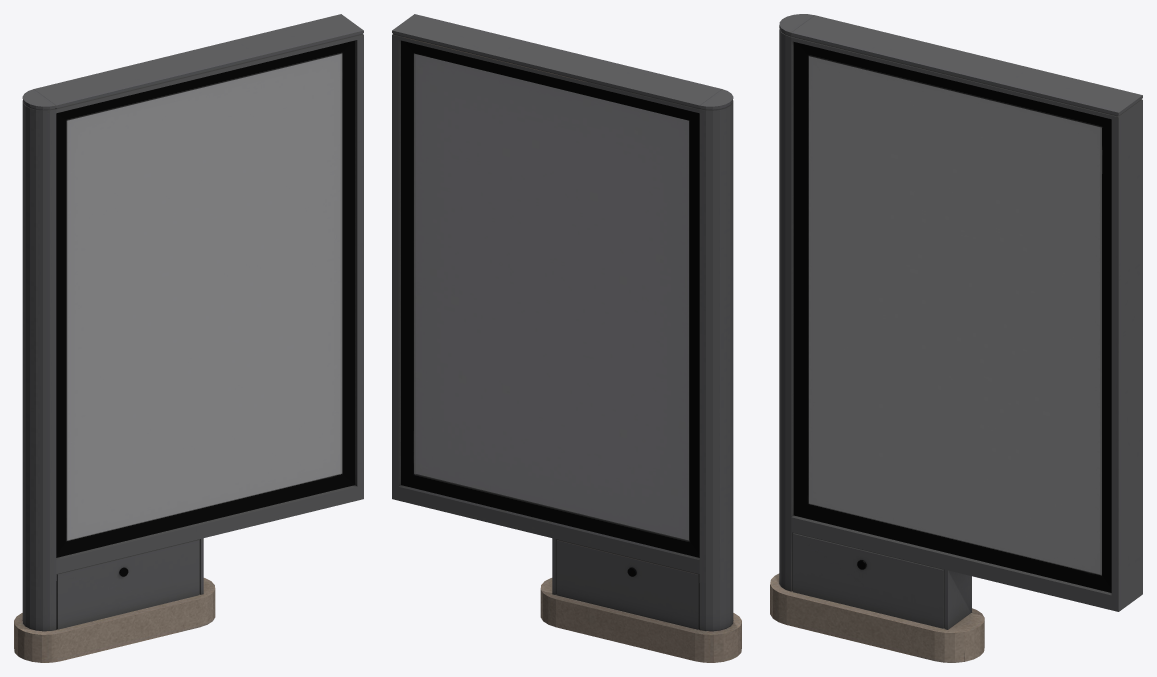
The model's file is pub.fbx.
The picture shows the model from 3 angles, left to right: view 1: azimuth 30°, elevation 25°; view 2: azimuth 150°, elevation 25°; view 3: azimuth 330°, elevation 25°; orthographic projection. The views are drawn at different scales.
Parts seen in each view (by area): view 1: Object003, Object002; view 2: Object003, Object002; view 3: Object003, Object002.
Boxes of the visible parts, x1,y1,x2,y2 form: Object003: (14,14,363,662); Object002: (22,34,363,631); Object003: (392,14,741,662); Object002: (392,34,733,631); Object003: (770,15,1142,662); Object002: (779,14,1142,629).
Bounding box in the file's own units: 25.03 × 39.51 × 4.06.
2 materials, 2 textured.
